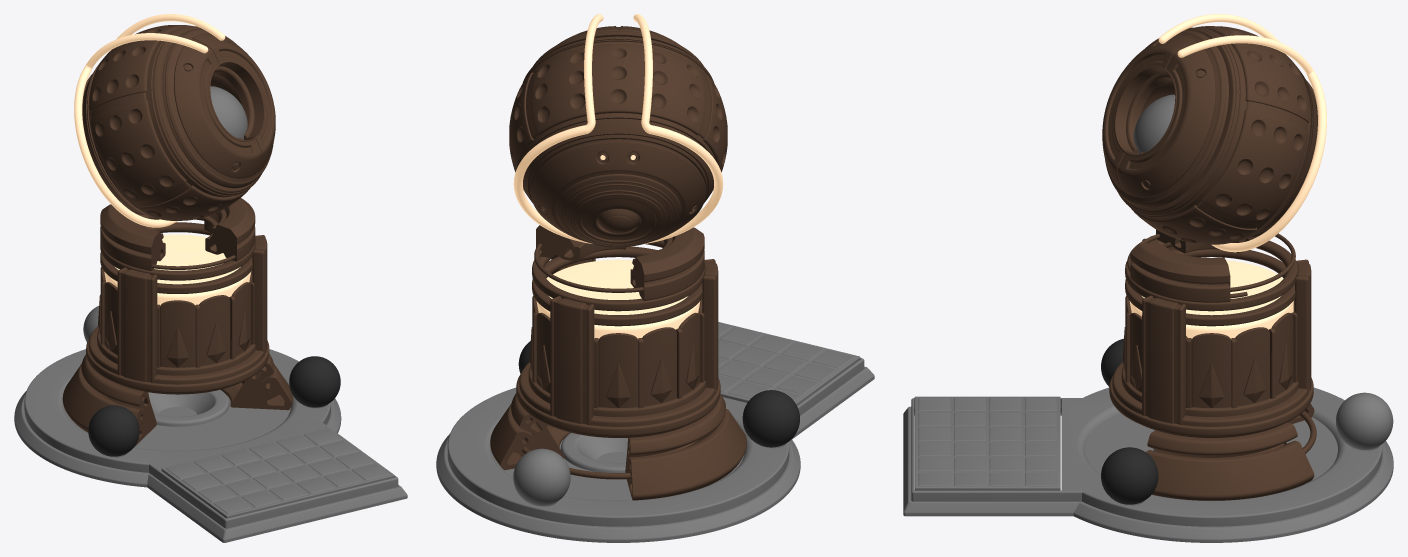
Rendered from GRP_SB_Main_1M.fbx.
3 renders of one model, left to right at view 1: azimuth 30°, elevation 25°; view 2: azimuth 150°, elevation 25°; view 3: azimuth 270°, elevation 25°, orthographic. The views are drawn at different scales.
Visible parts, largest first — view 1: ShaderBall_StandBase (4), ShaderBall_Main (4), SB_Base, MacbethChart, LitParts (4), Ball_Chrome, Ball_Rough, SphereTop_Insert (4); view 2: ShaderBall_StandBase (4), ShaderBall_Main (4), SB_Base, LitParts (4), MacbethChart, Ball_Glass, Ball_Rough; view 3: ShaderBall_StandBase (4), ShaderBall_Main (4), SB_Base, MacbethChart, LitParts (4), Ball_Chrome, Ball_Glass, SphereTop_Insert (4), Ball_Rough.
Boxes of the visible parts, left/top/right/bottom form: ShaderBall_StandBase (4): left=62, top=198, right=292, bottom=446; ShaderBall_Main (4): left=82, top=25, right=275, bottom=220; SB_Base: left=14, top=349, right=407, bottom=542; MacbethChart: left=161, top=427, right=394, bottom=518; LitParts (4): left=74, top=14, right=251, bottom=305; Ball_Chrome: left=289, top=356, right=340, bottom=407; Ball_Rough: left=88, top=405, right=139, bottom=456; SphereTop_Insert (4): left=210, top=86, right=247, bottom=140; ShaderBall_StandBase (4): left=490, top=225, right=746, bottom=500; ShaderBall_Main (4): left=509, top=26, right=727, bottom=247; SB_Base: left=436, top=358, right=874, bottom=542; LitParts (4): left=513, top=14, right=723, bottom=339; MacbethChart: left=718, top=322, right=860, bottom=405; Ball_Glass: left=513, top=448, right=570, bottom=506; Ball_Rough: left=742, top=390, right=799, bottom=447; ShaderBall_StandBase (4): left=1109, top=229, right=1316, bottom=500; ShaderBall_Main (4): left=1102, top=26, right=1317, bottom=244; SB_Base: left=903, top=387, right=1393, bottom=542; MacbethChart: left=914, top=396, right=1060, bottom=490; LitParts (4): left=1129, top=14, right=1326, bottom=339; Ball_Chrome: left=1101, top=447, right=1158, bottom=504; Ball_Glass: left=1336, top=392, right=1393, bottom=450; SphereTop_Insert (4): left=1133, top=94, right=1175, bottom=154; Ball_Rough: left=1101, top=338, right=1123, bottom=386.
Bounding box in the file's own units: 100 × 133 × 135.
